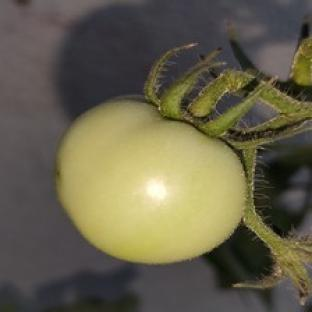Tomato: (56, 98, 246, 263)
